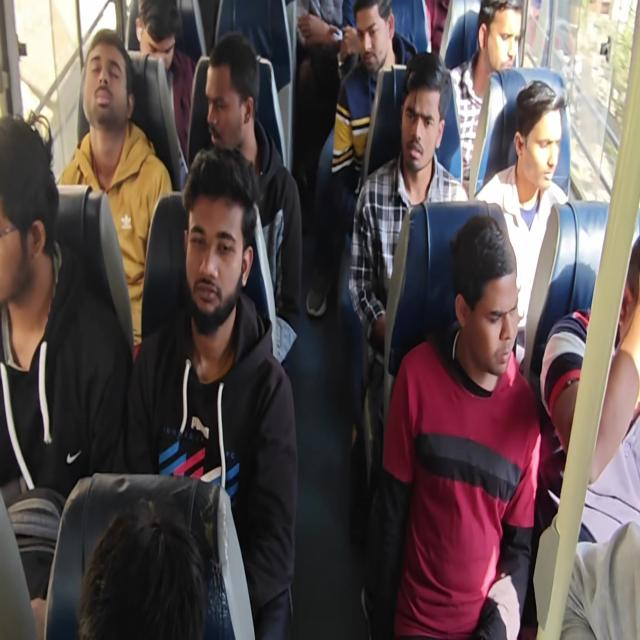person: (1, 1, 639, 638), (126, 145, 298, 638), (364, 214, 542, 638), (0, 111, 133, 634), (348, 51, 469, 393), (56, 28, 173, 348), (203, 32, 302, 366), (540, 232, 640, 544), (474, 79, 569, 361), (330, 0, 418, 216), (76, 497, 208, 639), (446, 0, 524, 185), (133, 0, 196, 172), (560, 519, 640, 639), (389, 0, 449, 56)
